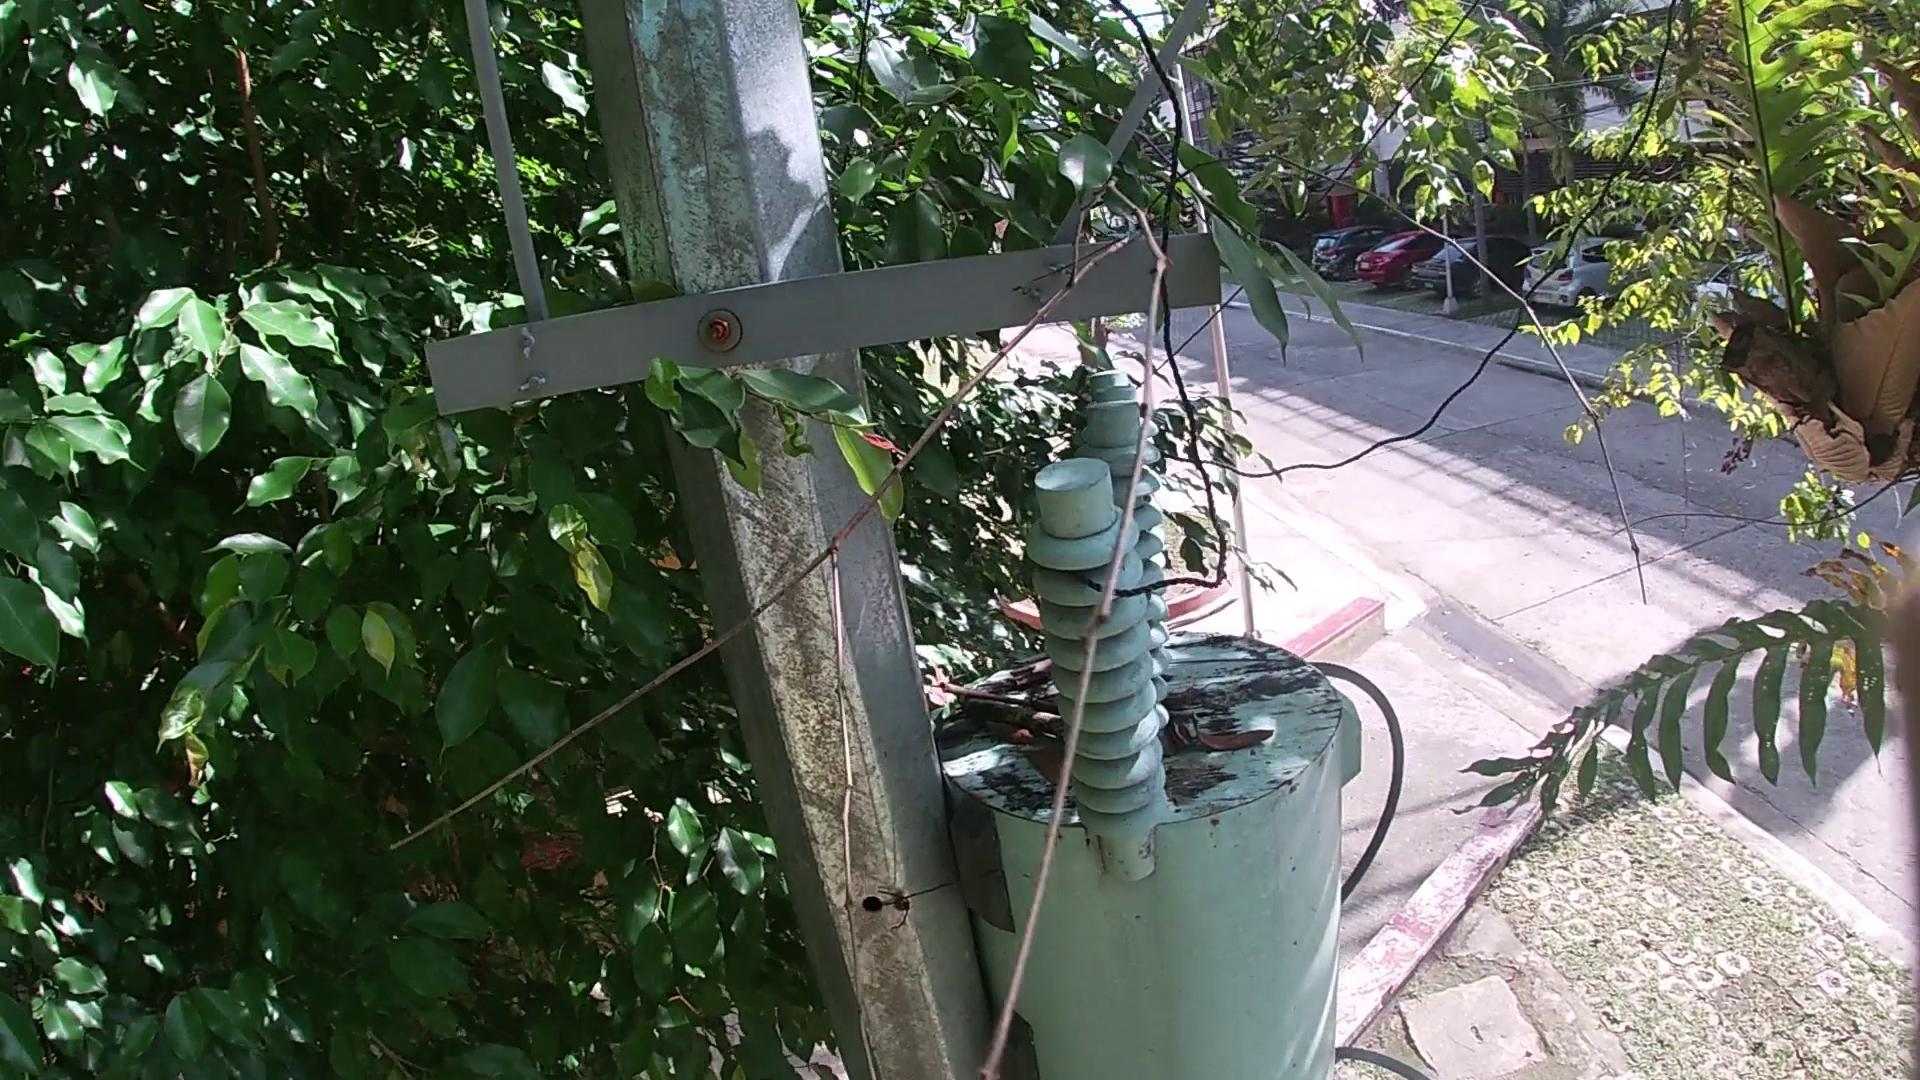leaf: (1185, 709, 1278, 758), (1021, 744, 1081, 795), (982, 716, 1036, 744)
tree branch: (386, 150, 1664, 1077), (940, 683, 1069, 738), (1001, 655, 1055, 694)
